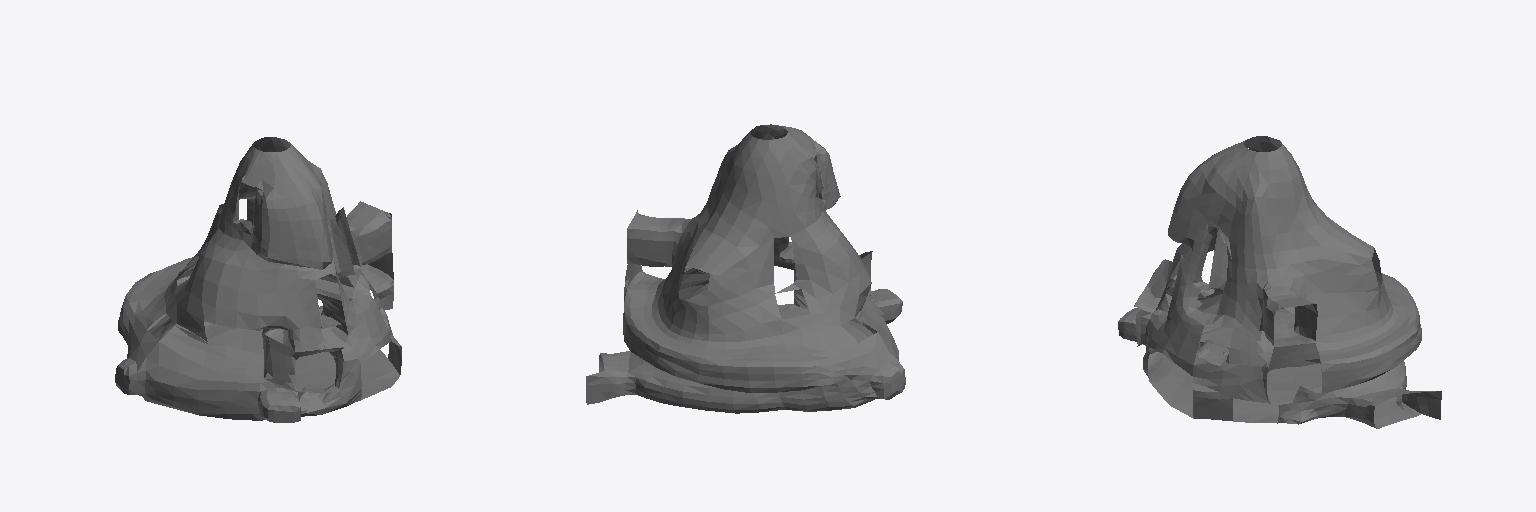
File: Env_1v3_WIP.obj
3 views of the same model, side by side, from view 1: azimuth 30°, elevation 25°; view 2: azimuth 150°, elevation 25°; view 3: azimuth 270°, elevation 25° (orthographic).
Parts seen in each view (by area): view 1: Env_1v3_WIP1:Group2; view 2: Env_1v3_WIP1:Group2; view 3: Env_1v3_WIP1:Group2.
Part boxes in pixels (x1,y1,x2,y2): Env_1v3_WIP1:Group2: (115,137,401,422); Env_1v3_WIP1:Group2: (586,124,905,413); Env_1v3_WIP1:Group2: (1118,136,1441,428).
Bounding box in the file's own units: 172 × 142 × 180.